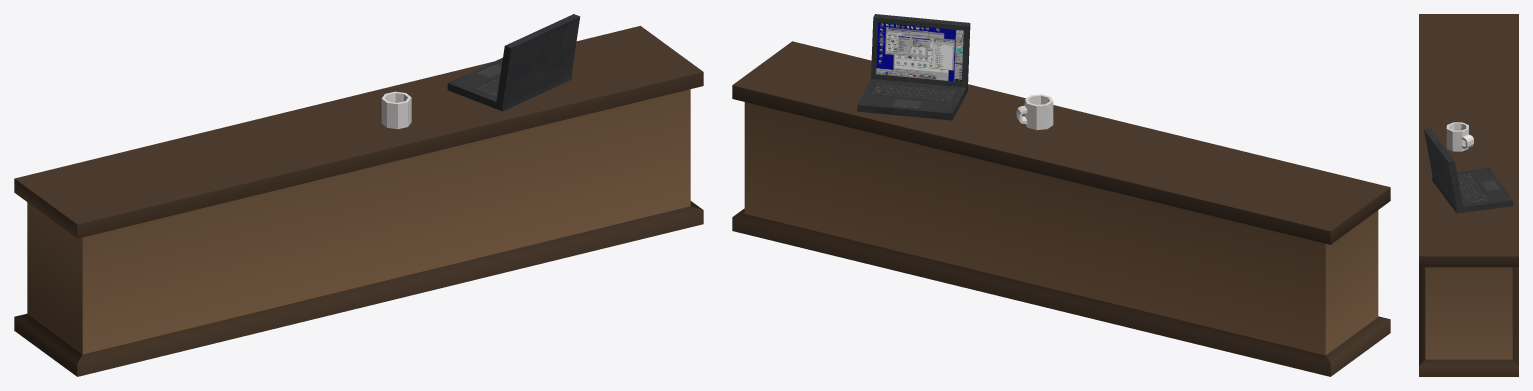
The model's file is counter.fbx.
3 views of the same model, side by side, from view 1: azimuth 30°, elevation 25°; view 2: azimuth 150°, elevation 25°; view 3: azimuth 270°, elevation 25° (orthographic). The views are drawn at different scales.
Visible parts, largest first — view 1: Counter, Computer, Coffe; view 2: Counter, Computer, Coffe; view 3: Counter, Computer, Coffe.
Part boxes in pixels (left/top/right/bottom): Counter: left=14, top=26, right=703, bottom=376; Computer: left=447, top=14, right=580, bottom=111; Coffe: left=381, top=91, right=411, bottom=129; Counter: left=732, top=41, right=1390, bottom=376; Computer: left=857, top=14, right=970, bottom=120; Coffe: left=1016, top=94, right=1053, bottom=129; Counter: left=1419, top=14, right=1518, bottom=376; Computer: left=1424, top=128, right=1513, bottom=213; Coffe: left=1446, top=122, right=1473, bottom=151.
Bounding box in the file's own units: 4.3 × 1.44 × 0.749.
Materials: 7 (5 with a texture image).
